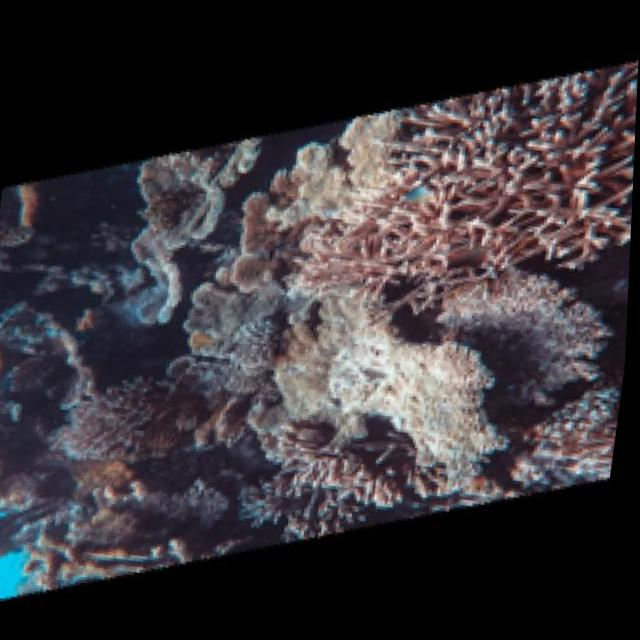Dead Coral: (286, 209, 633, 529), (284, 36, 639, 325), (80, 100, 282, 356), (211, 404, 450, 548), (0, 351, 196, 508), (0, 184, 76, 542), (225, 273, 317, 387)
